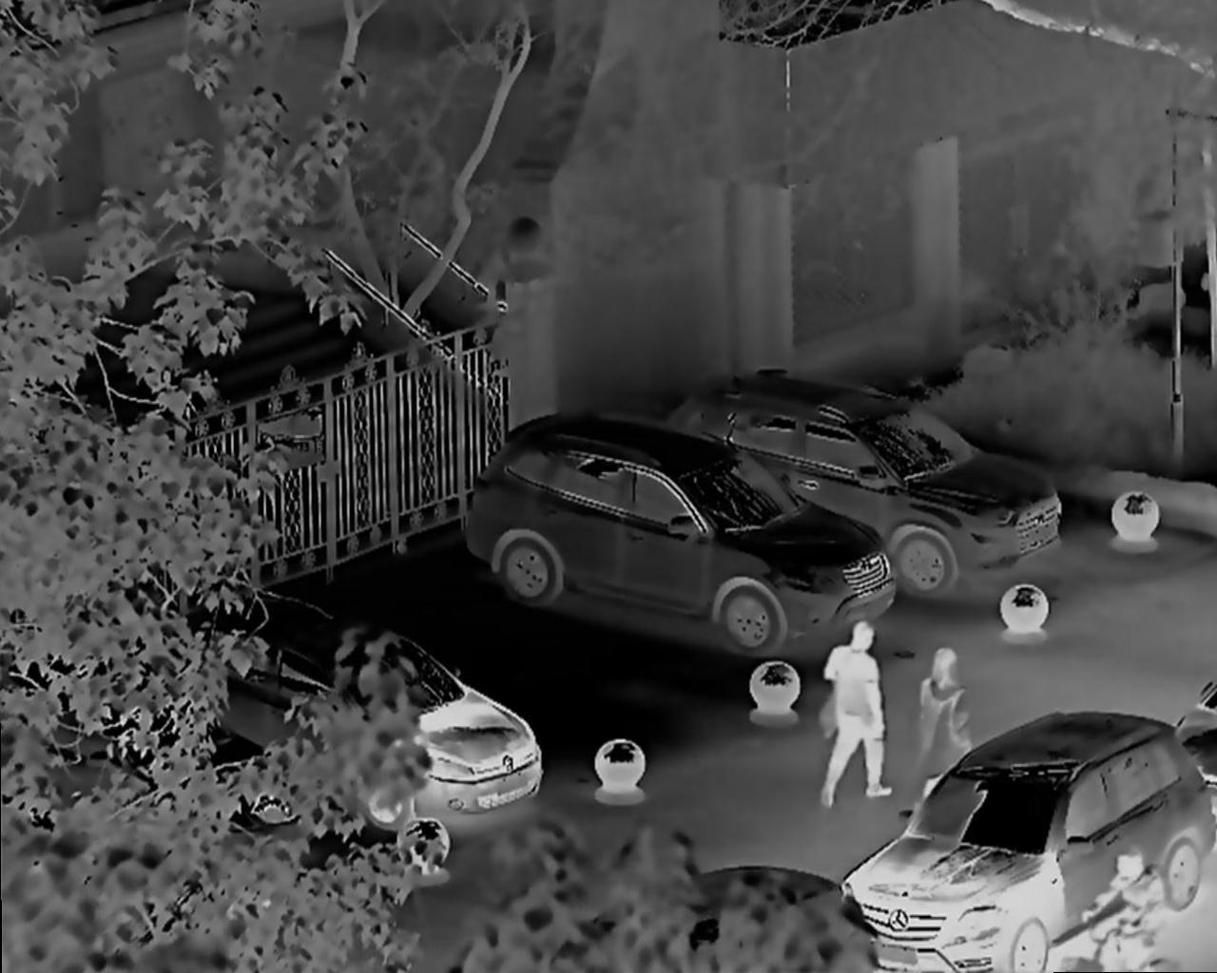person: (821, 611, 892, 809), (1086, 850, 1169, 963), (917, 645, 976, 757)
